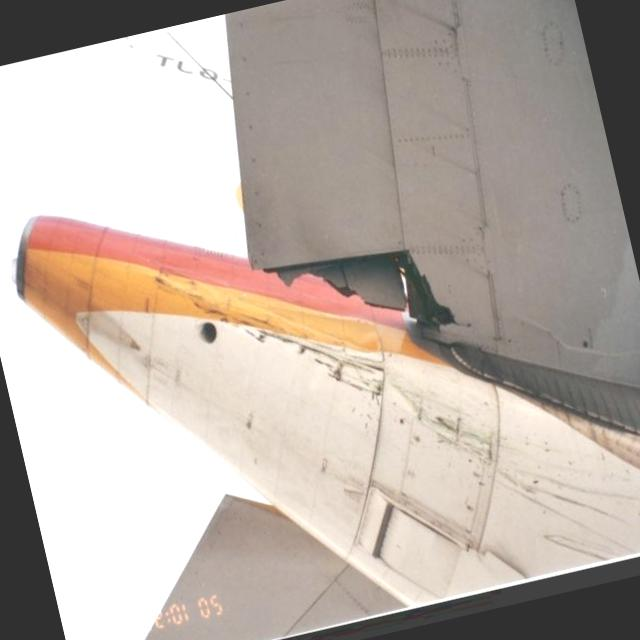crack: (252, 219, 482, 382)
